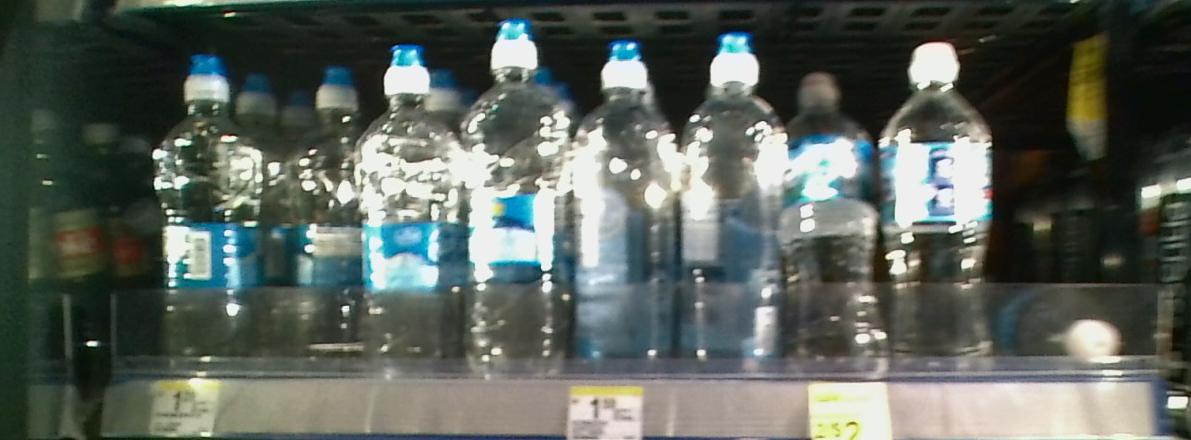bottle: (467, 21, 573, 381), (680, 20, 786, 366), (884, 39, 995, 366), (151, 48, 264, 360), (577, 35, 677, 374), (366, 44, 463, 375), (791, 63, 883, 375), (278, 62, 362, 366), (1016, 284, 1130, 369)
